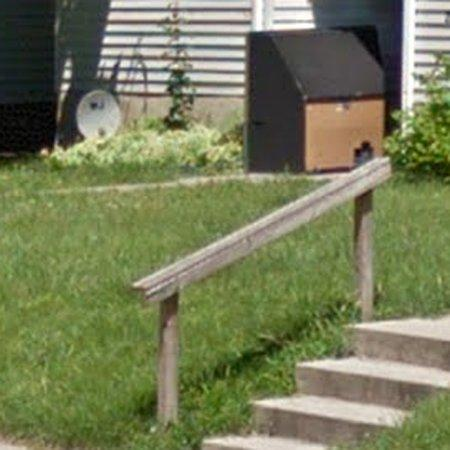stairs: (203, 317, 450, 450)
